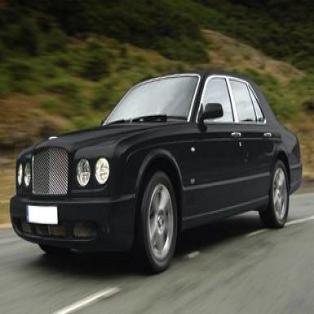Auto: (7, 69, 304, 275)
